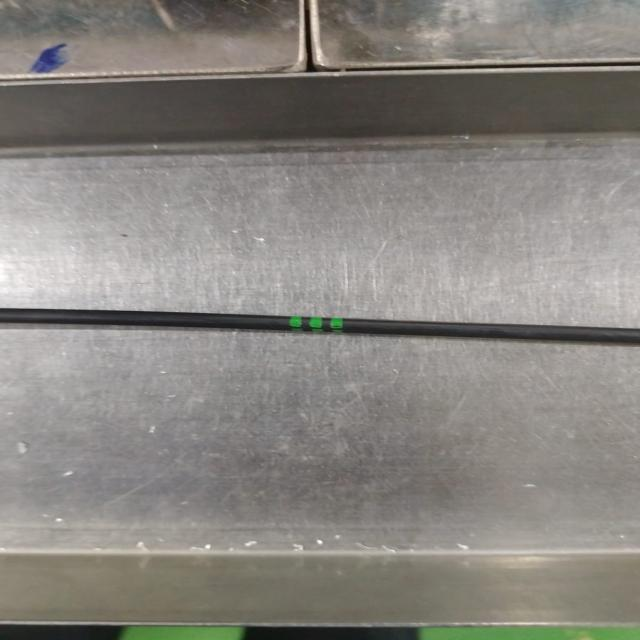green: (289, 316, 344, 333)
